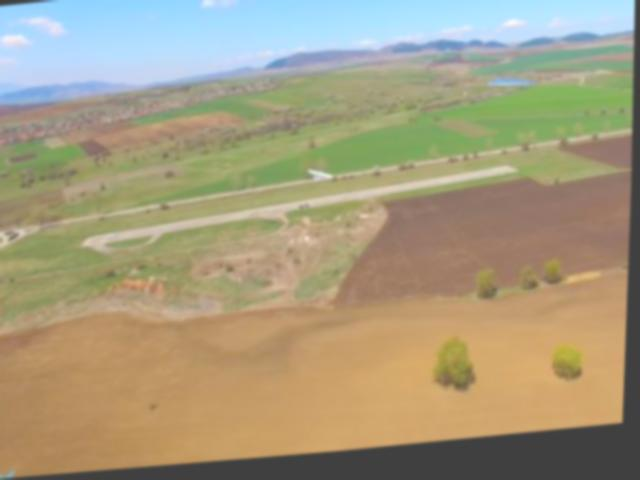uav: (306, 163, 342, 195)
